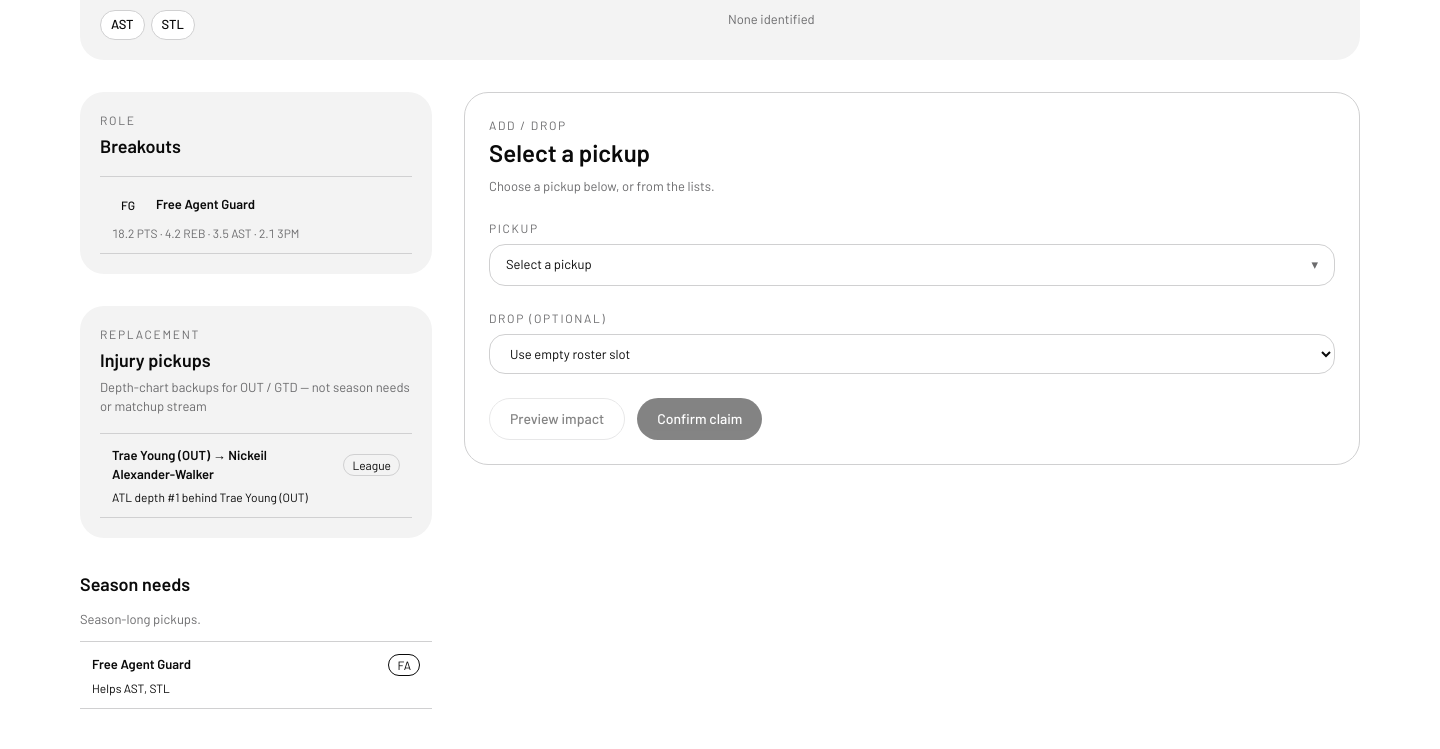
Test: WaiversWorkspace › shows recommendations, selects an add, and renders preview deltas
(page scrolled)
expect the heading "Season needs" is shown: met, box x1=80 y1=572 x2=190 y2=594
Click the button with aria-label "Add Free Agent Guard": (142, 664) x1=80 y1=642 x2=432 y2=708
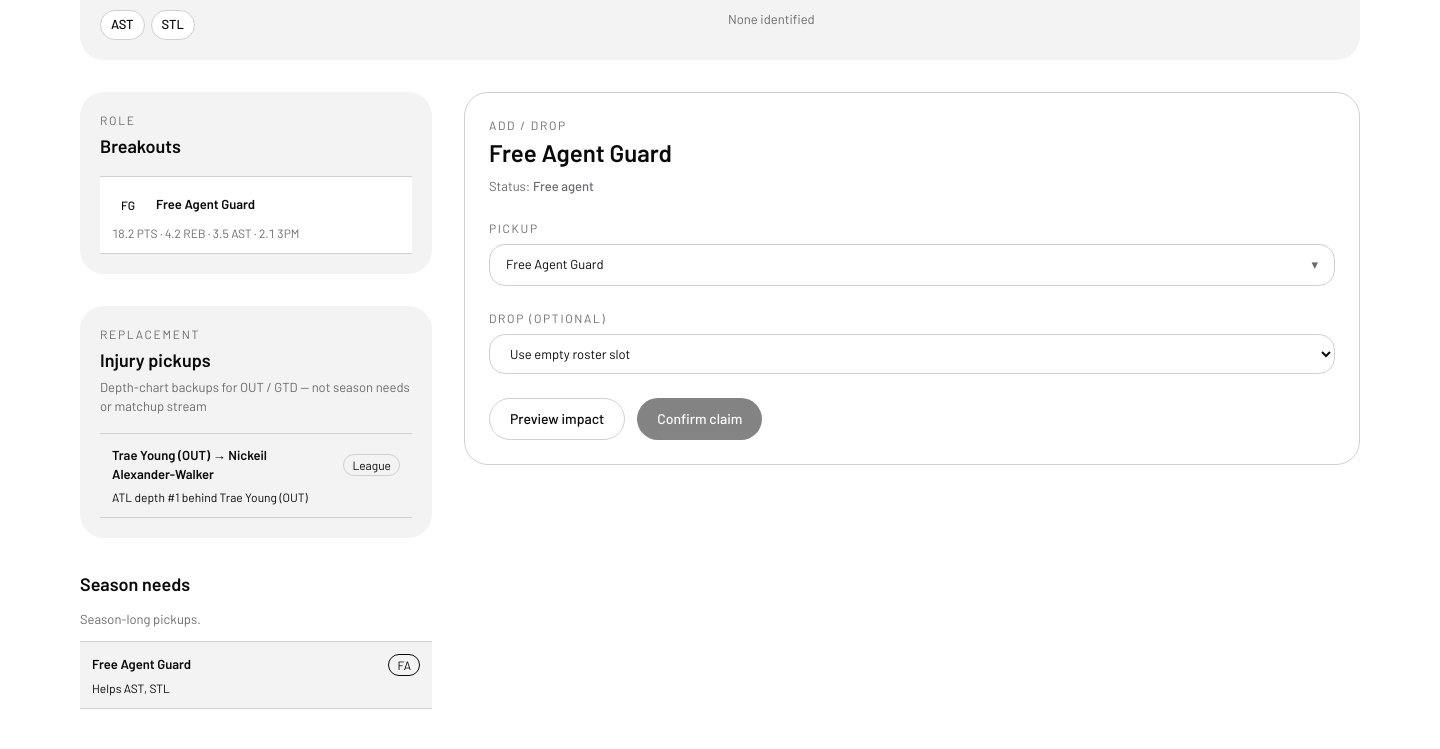
Click the button "Preview impact": (557, 418) x1=489 y1=398 x2=625 y2=440
(page scrolled)
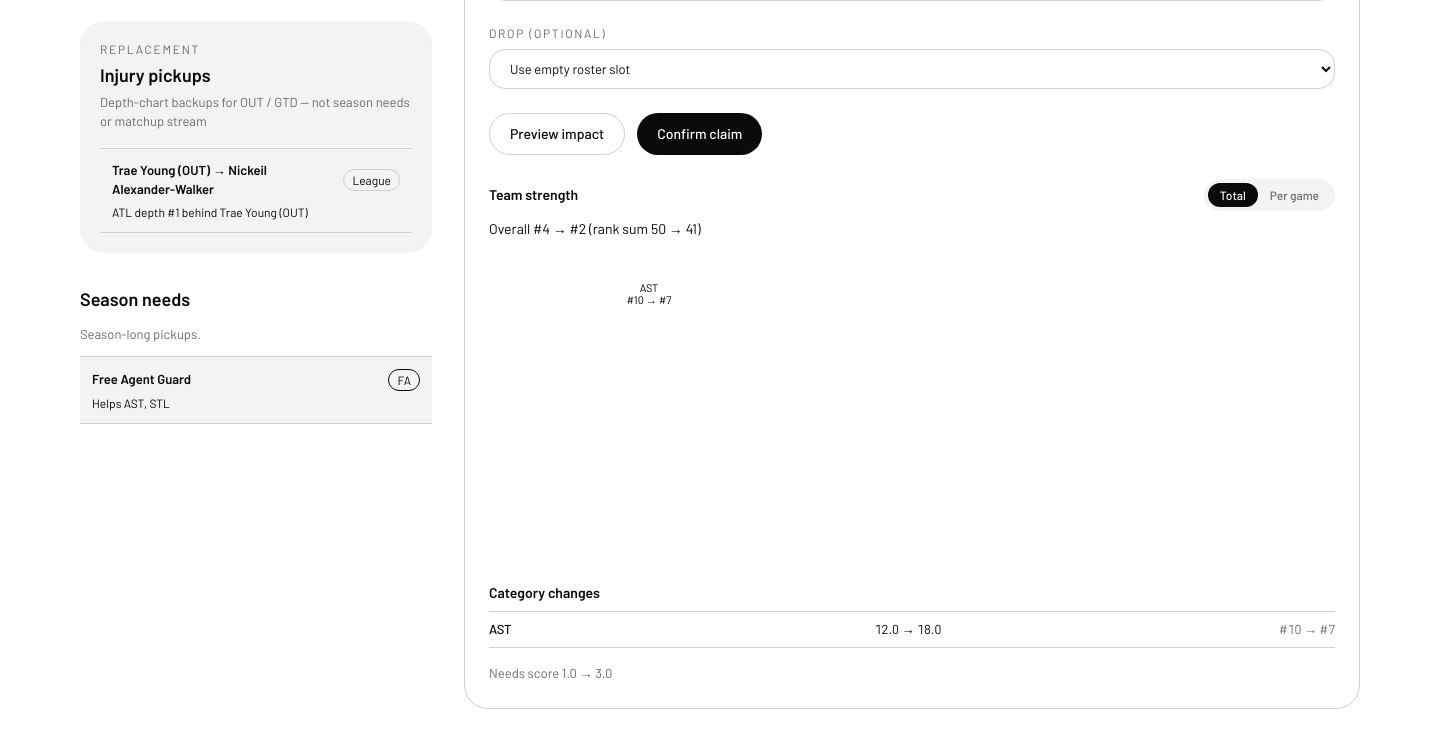
expect the text "12.0 → 18.0" is shown: met, box x1=875 y1=620 x2=941 y2=639
expect the text "#10 → #7" is shown: met, box x1=1279 y1=620 x2=1335 y2=639
